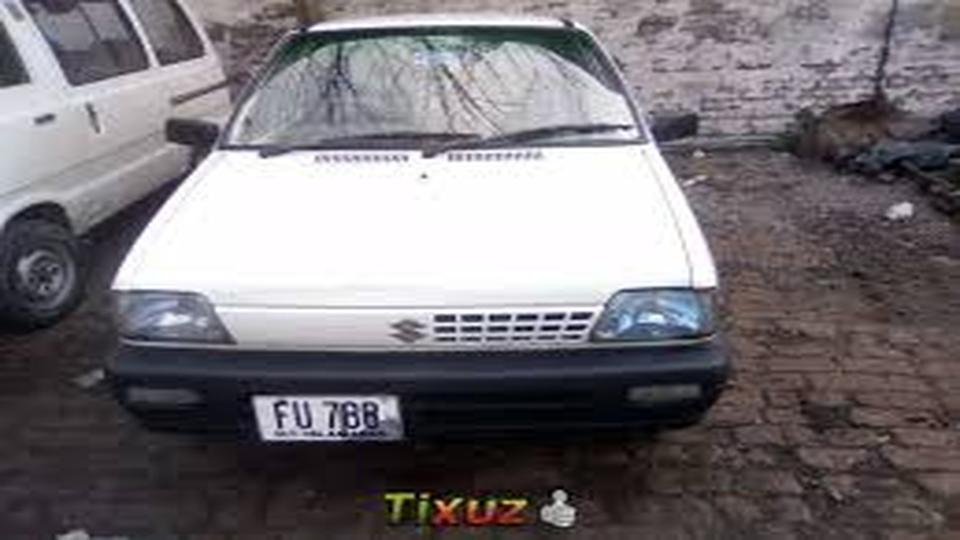NumberPlate: (251, 386, 410, 460)
